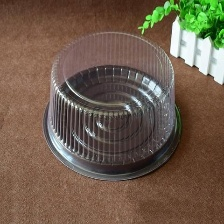plastic_box: (36, 21, 191, 187)
